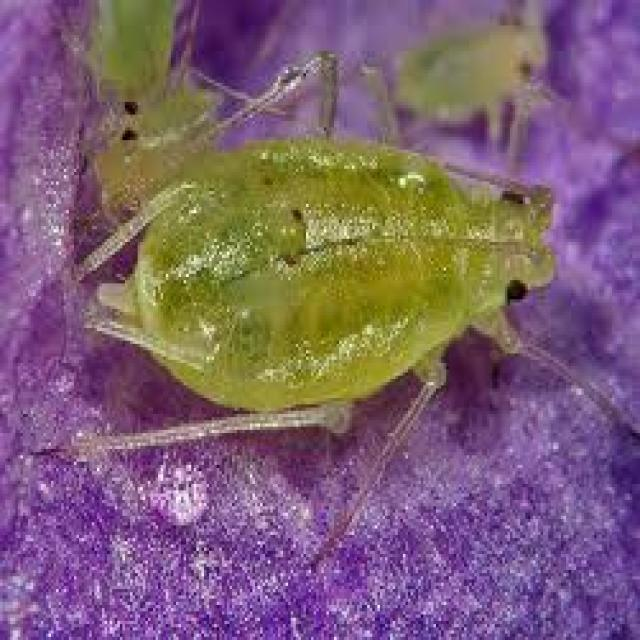Aphids: (94, 105, 577, 483)
